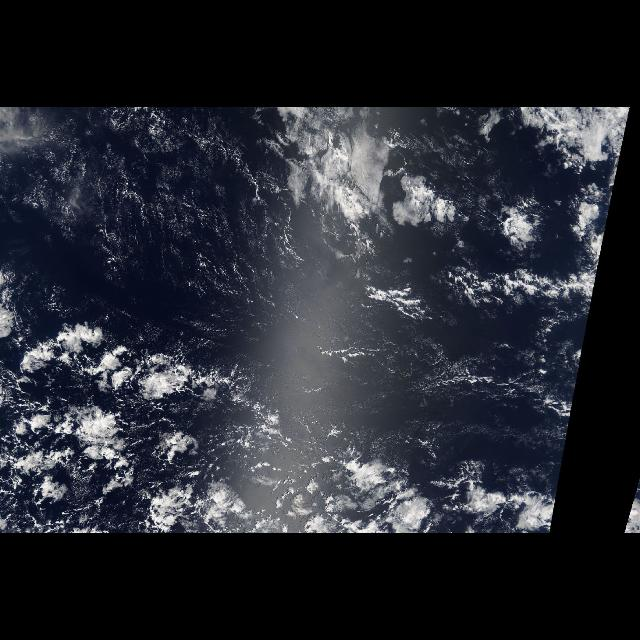Gravel: (0, 314, 314, 534)
Sugar: (1, 111, 590, 449)
